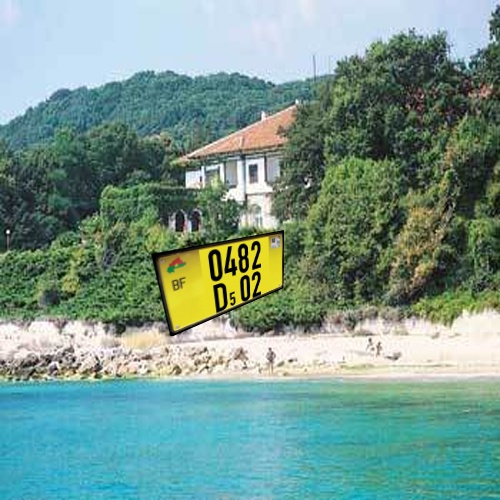plate: (142, 221, 321, 342)
